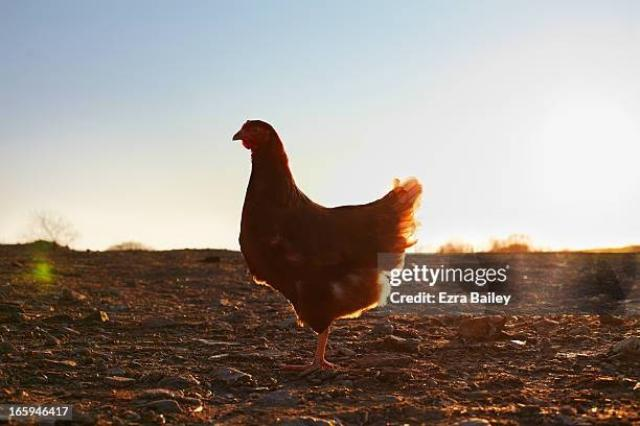Chicken: (231, 120, 423, 375)
